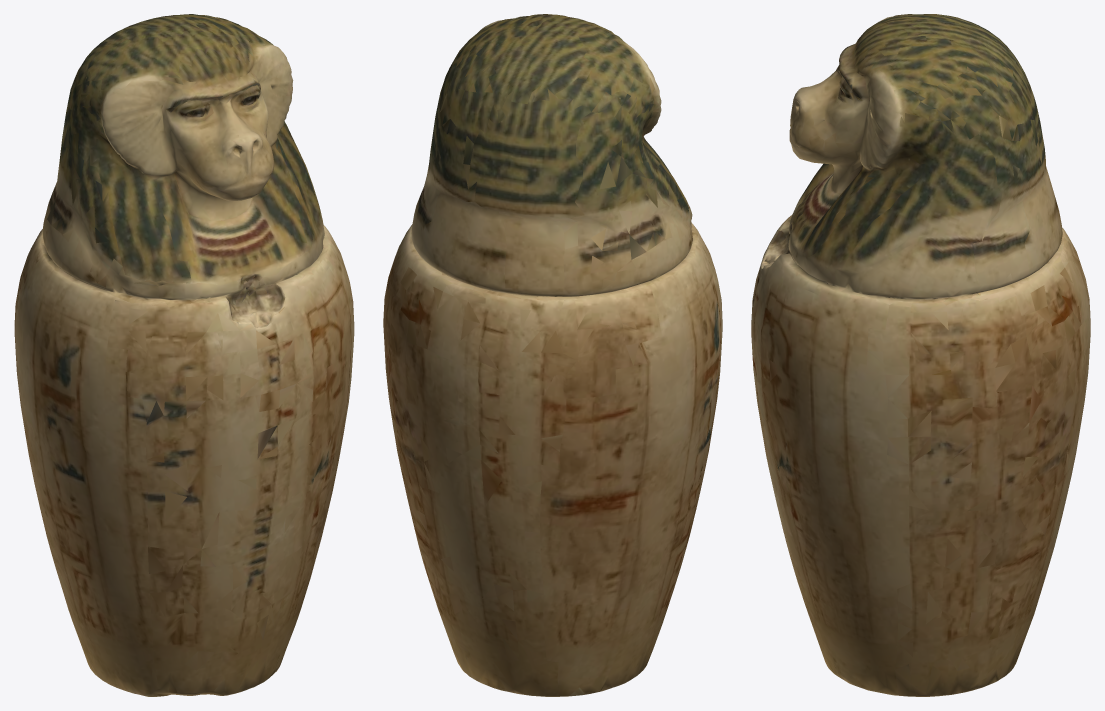
The model's file is canopic_hapy.glb.
3 renders of one model, left to right at view 1: azimuth 30°, elevation 25°; view 2: azimuth 150°, elevation 25°; view 3: azimuth 270°, elevation 25°, orthographic.
Parts seen in each view (by area): view 1: prop; view 2: prop; view 3: prop.
Part boxes in pixels (box(x1,y1,x2,y2)): prop: box(14, 14, 354, 696); prop: box(383, 14, 722, 696); prop: box(751, 14, 1090, 696).
Bounding box in the file's own units: 0.1954 × 0.4 × 0.1956.
1 material, 1 textured.
